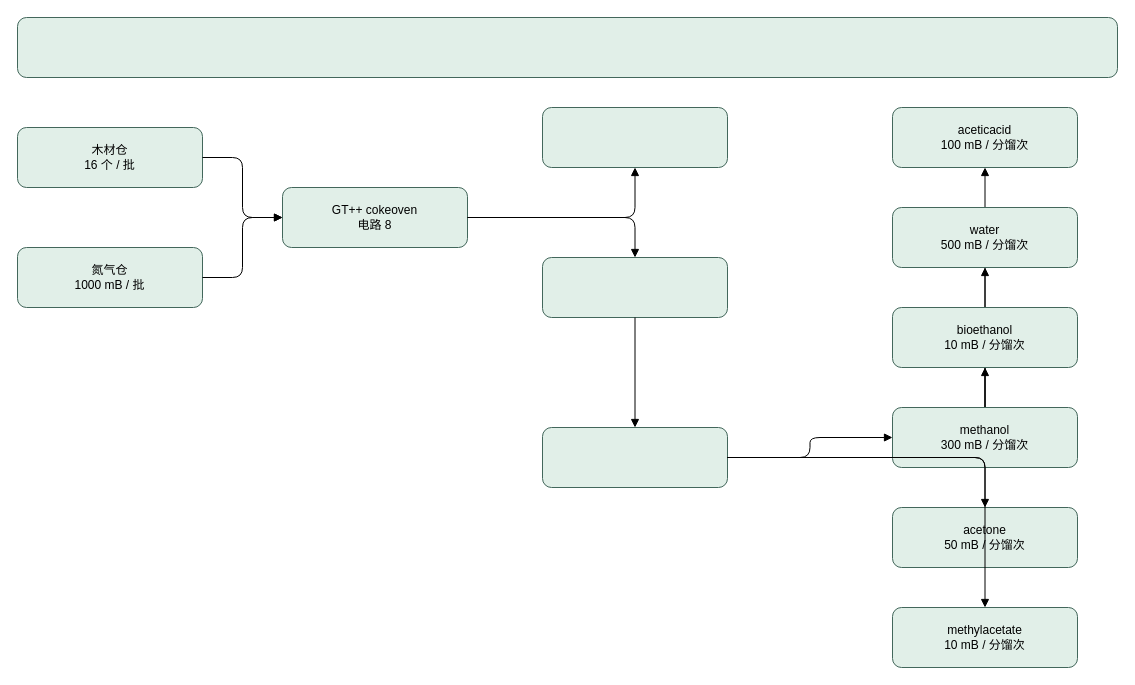
Image size: 1135x685. Some labels were removed from this diagram. Each missing label, with the centre of its shape:
冻结 GT 净配方；尚未实装 OC 自动整线。GT mB 不等于化学计量或物理收率。: point (567, 47)
木炭仓 20 个 / 批: point (635, 137)
木醋液缓冲 3000 mB / 干馏批: point (635, 287)
蒸馏塔 电路 1；1000 mB / 次: point (635, 457)
